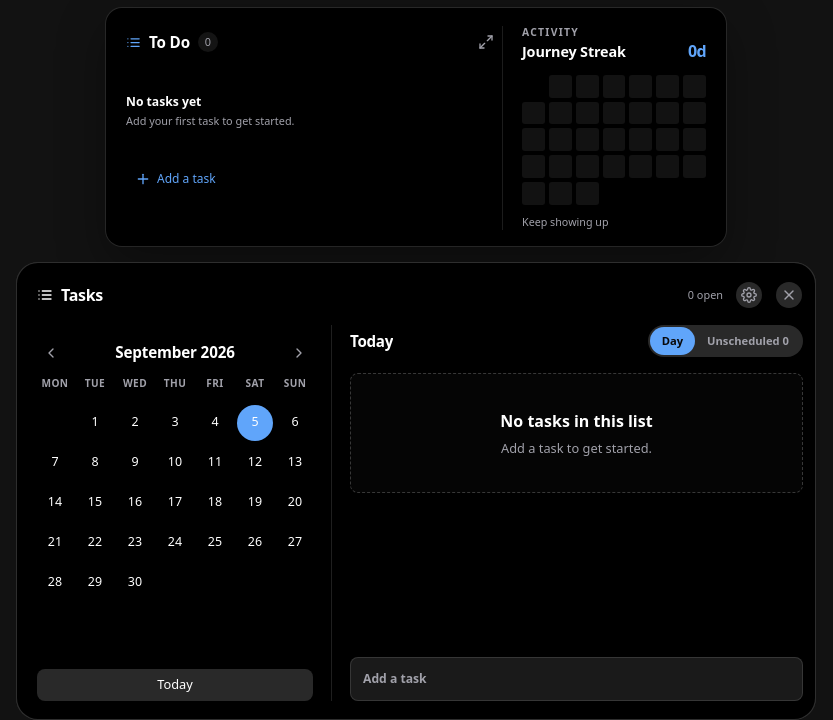
Scenario: Tasks surface › creates an unscheduled task from the Unscheduled bucket
The width and height of the screenshot is (833, 720).
Expected: the heading "Tasks" is shown, [61,287,103,303]
Click the tab "Unscheduled 0" at (748,341), box [695,327,801,355]
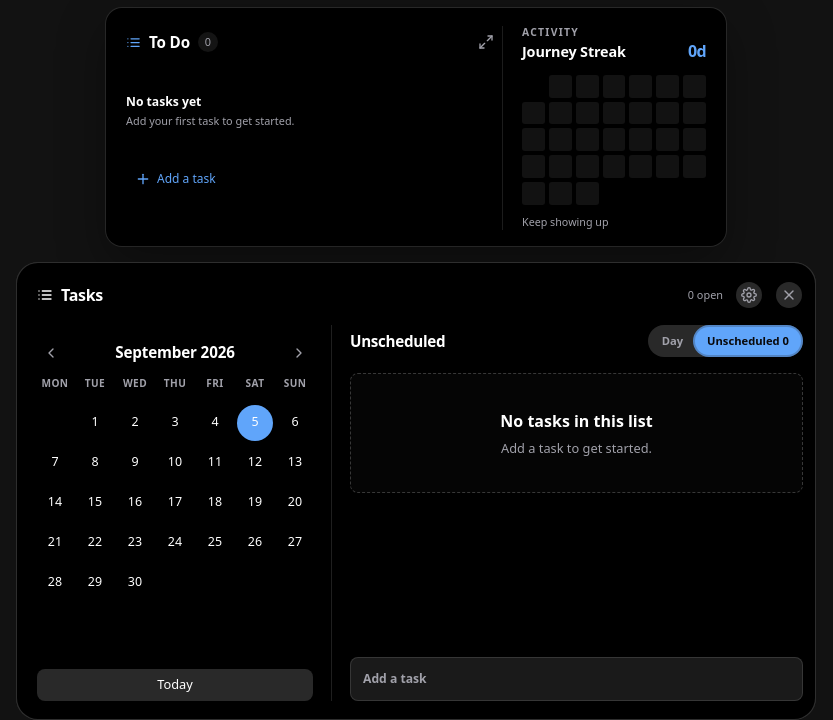
Click the button with aria-label "Add task" at (395,678), box [350,657,803,701]
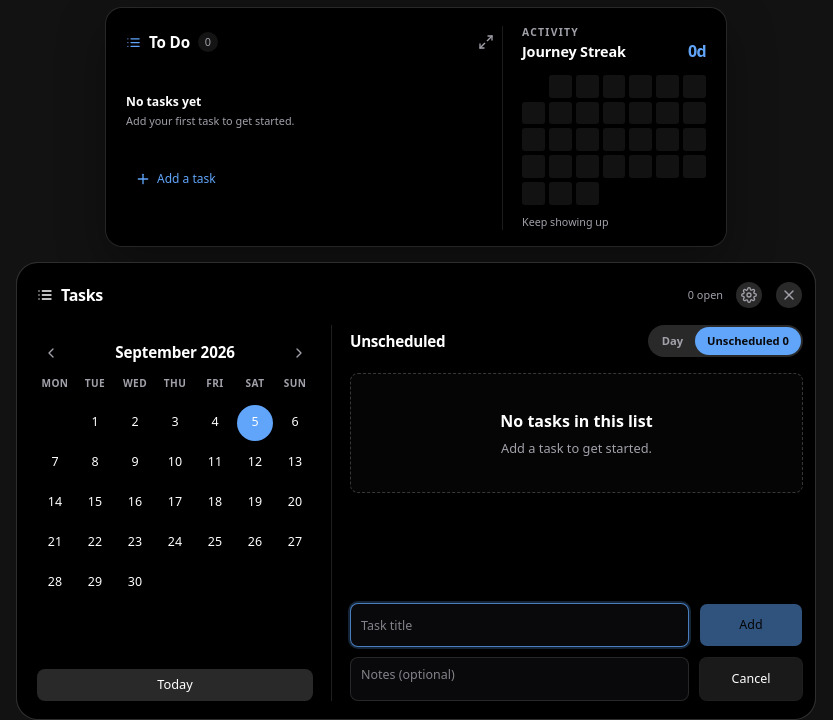
Type "Unscheduled task" into the field labelled "title" at (520,625), box [350,603,689,647]
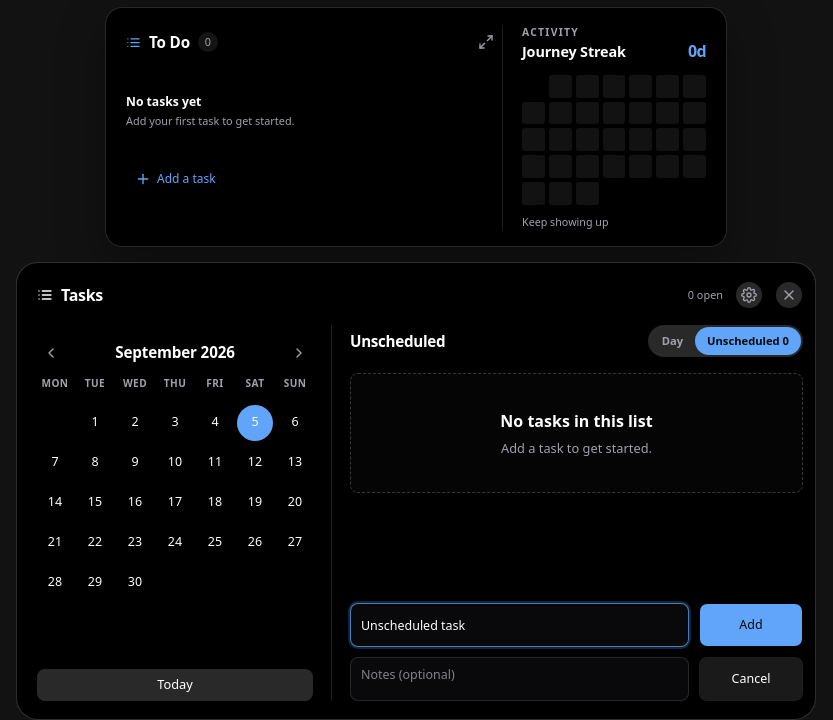
Click the button with aria-label "Add task" at (751,625), box [699,603,803,647]
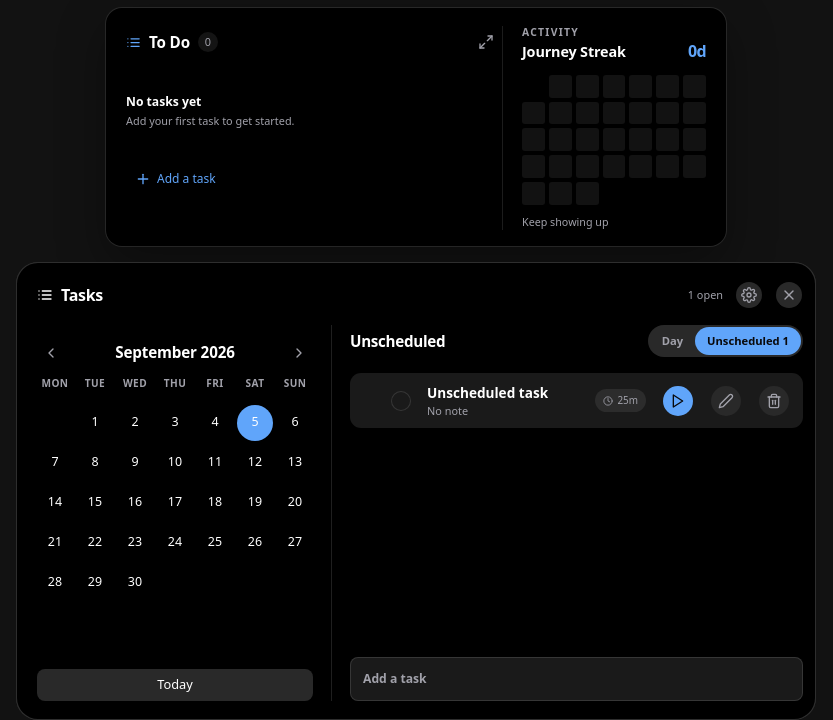
Expected: the text "Unscheduled task" is shown, [427,383,548,402]
